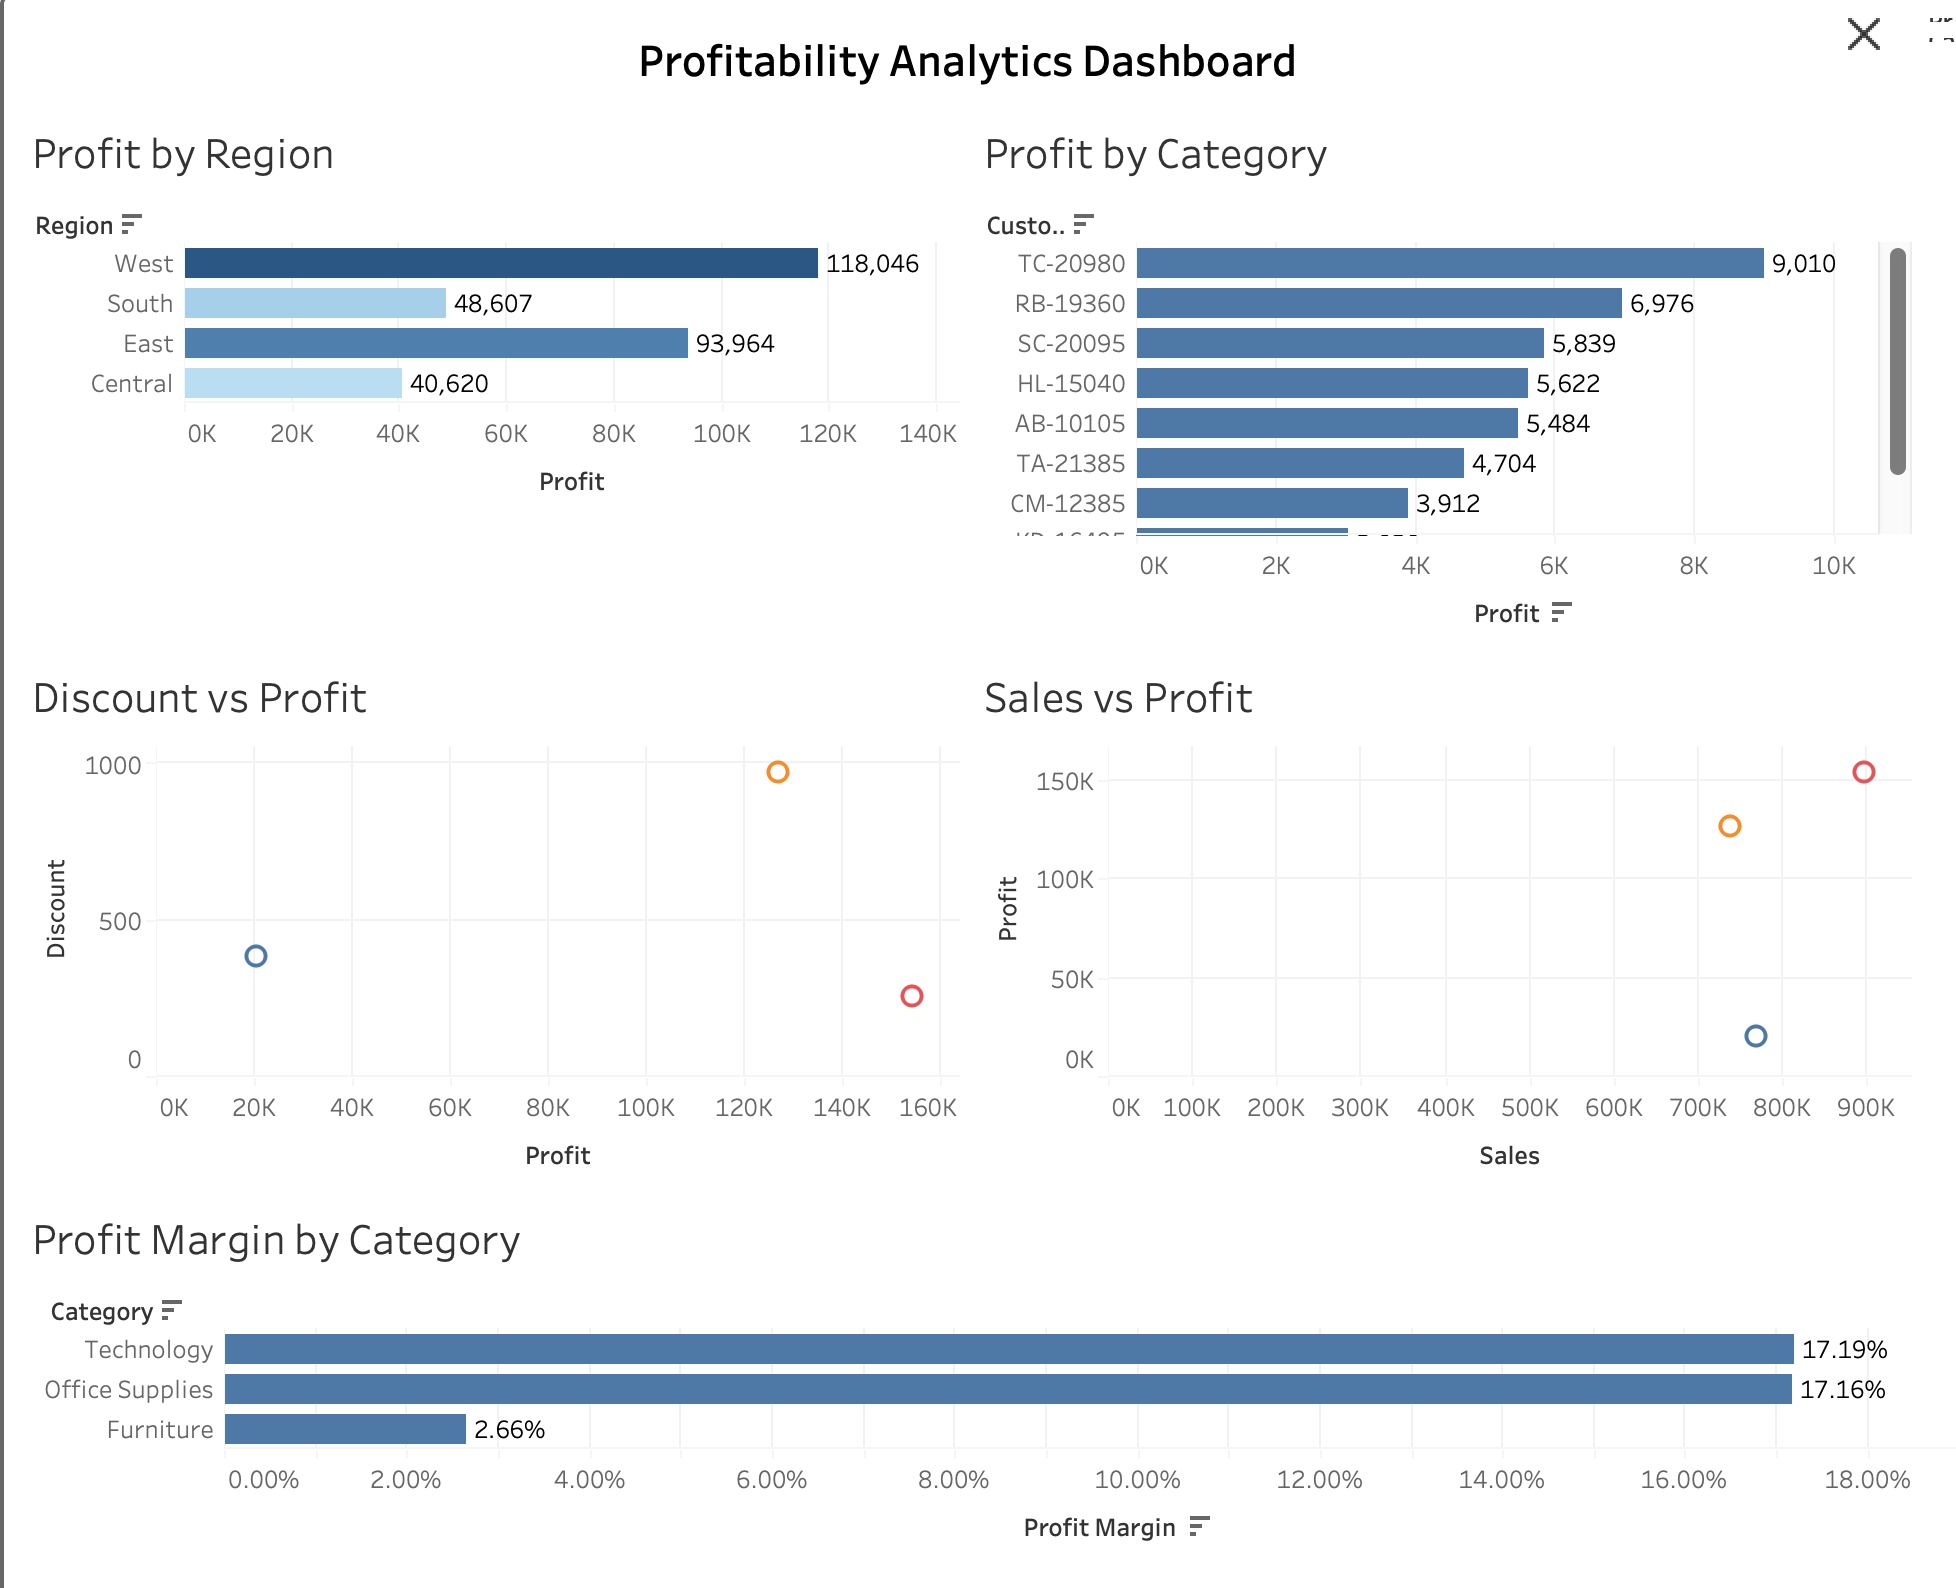

What the dashboard file says about the page in this screenshot:
{"tool":"tableau","page":{"name":"Profitability Analytics","canvas":[1000,800],"ordinal":3},"visuals":[{"type":"text","box":[8,8,952,49.1]},{"type":"dashboard-object","box":[920,8,24,24]},{"type":"legend","title":"Profit by Region","param":"[federated.0tuqf441wox5qi142dxkt13uujxl].[sum:profit:qk]","box":[960,8,32,10]},{"type":"legend","title":"Discount vs Profit","param":"[federated.0tuqf441wox5qi142dxkt13uujxl].[none:category:nk]","box":[960,18,32,10]},{"type":"worksheet","title":"Profit by Region","mark":"Automatic","rows":["region"],"cols":["profit"],"box":[8,57.1,476,271.9]},{"type":"worksheet","title":"Profit by Category","mark":"Automatic","rows":["customer_id"],"cols":["profit"],"box":[484,57.1,476,271.9]},{"type":"worksheet","title":"Discount vs Profit","mark":"Automatic","rows":["discount"],"cols":["profit"],"box":[8,329,476,271]},{"type":"worksheet","title":"Sales vs Profit","mark":"Automatic","rows":["profit"],"cols":["sales"],"box":[484,329,476,271]},{"type":"worksheet","title":"Profit Margin by Category","mark":"Automatic","rows":["category"],"cols":["Calculation_4431045474275328"],"box":[8,600,984,192]}]}

Visuals, with their boxes in screenshot pixels (x1, y1, x2, y2), scaled from the page's 1000x800 canvas onto the 1956x1588 screenshot:
text: x1=16, y1=16, x2=1878, y2=113
dashboard-object: x1=1800, y1=16, x2=1846, y2=64
"Profit by Region" legend: x1=1878, y1=16, x2=1940, y2=36
"Discount vs Profit" legend: x1=1878, y1=36, x2=1940, y2=56
"Profit by Region" worksheet: x1=16, y1=113, x2=947, y2=653
"Profit by Category" worksheet: x1=947, y1=113, x2=1878, y2=653
"Discount vs Profit" worksheet: x1=16, y1=653, x2=947, y2=1191
"Sales vs Profit" worksheet: x1=947, y1=653, x2=1878, y2=1191
"Profit Margin by Category" worksheet: x1=16, y1=1191, x2=1940, y2=1572
